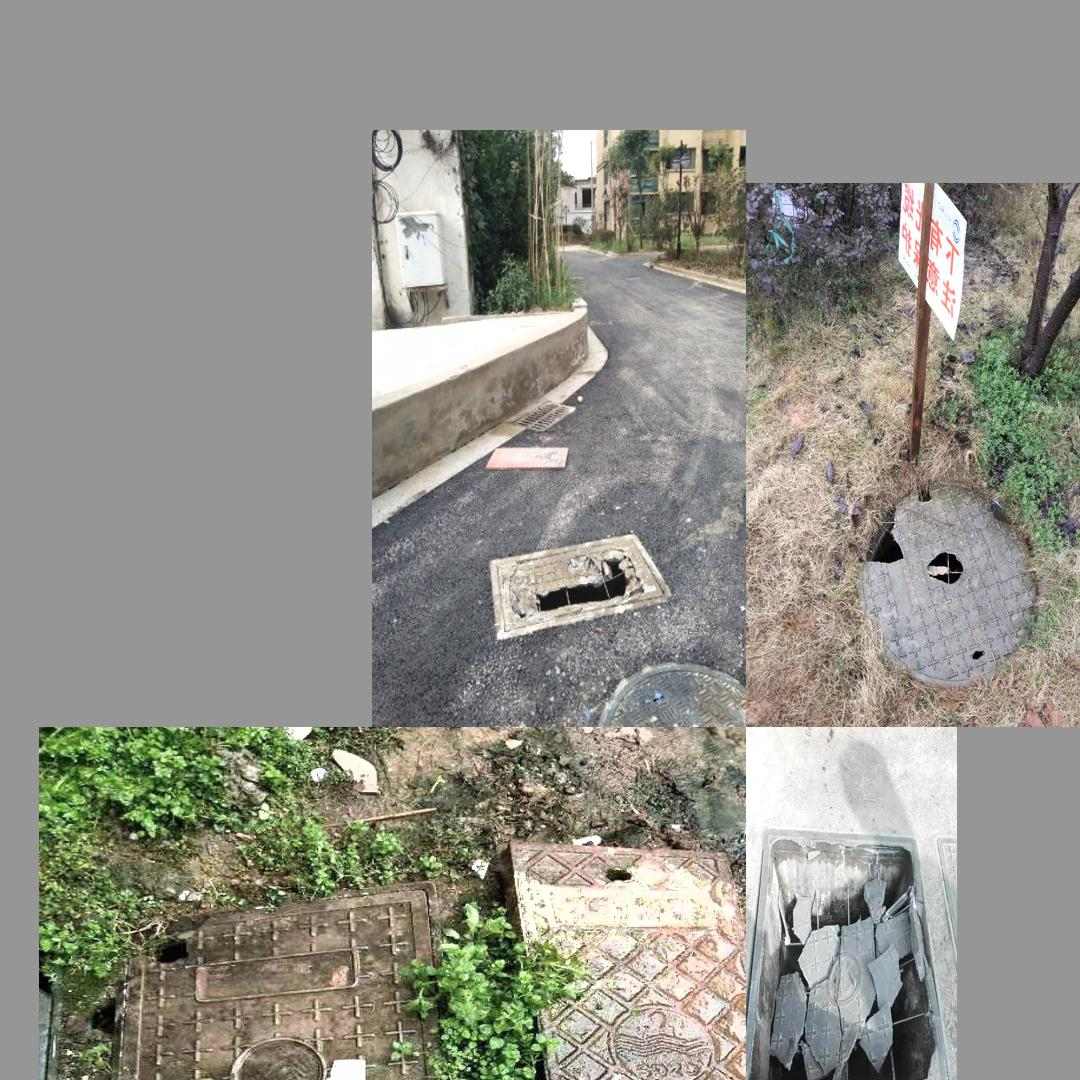broke: (117, 880, 478, 1080), (751, 832, 940, 1080), (858, 479, 1038, 684), (489, 532, 671, 640)
good: (595, 662, 746, 723)
